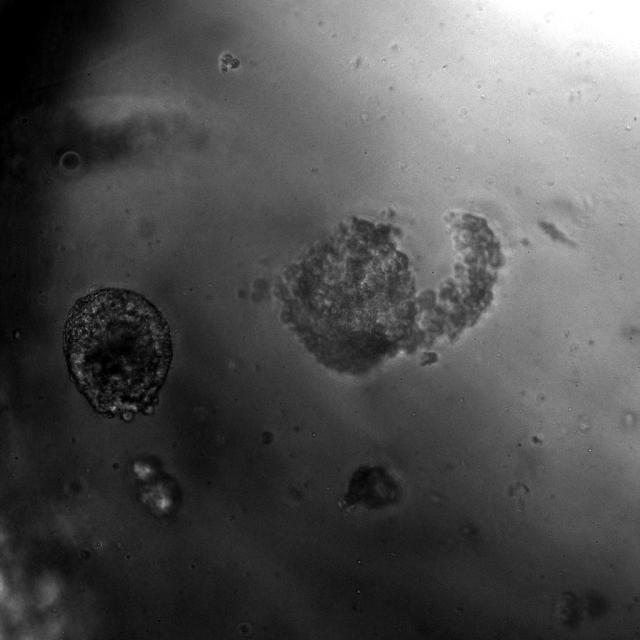organoid: (273, 211, 504, 376), (63, 287, 172, 421), (130, 457, 181, 517), (339, 465, 403, 512), (218, 52, 240, 73), (61, 151, 81, 170)
